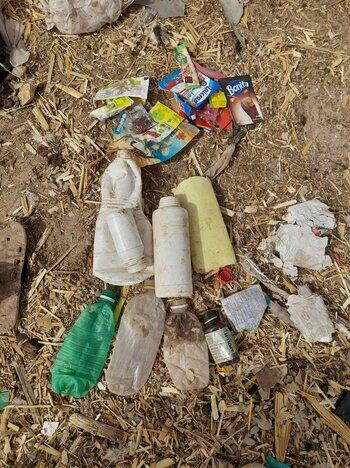Plastic: (45, 273, 117, 409), (94, 139, 154, 296), (111, 283, 159, 428), (159, 283, 210, 400), (146, 189, 196, 308)
